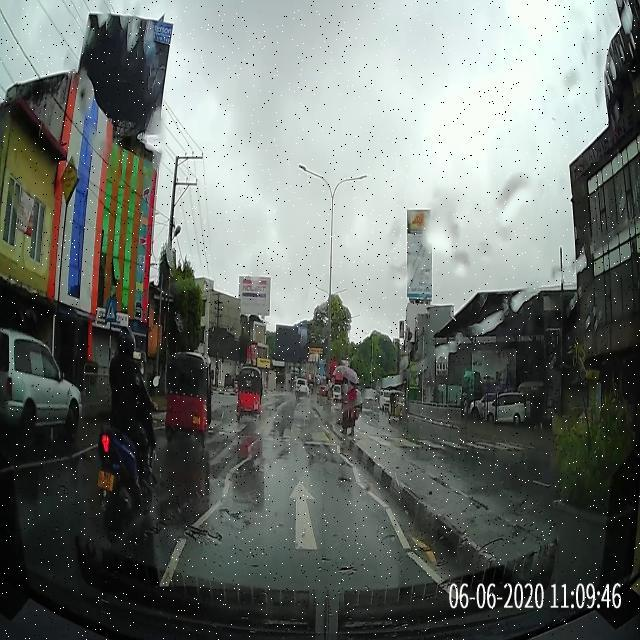forward: (161, 461, 422, 558)
